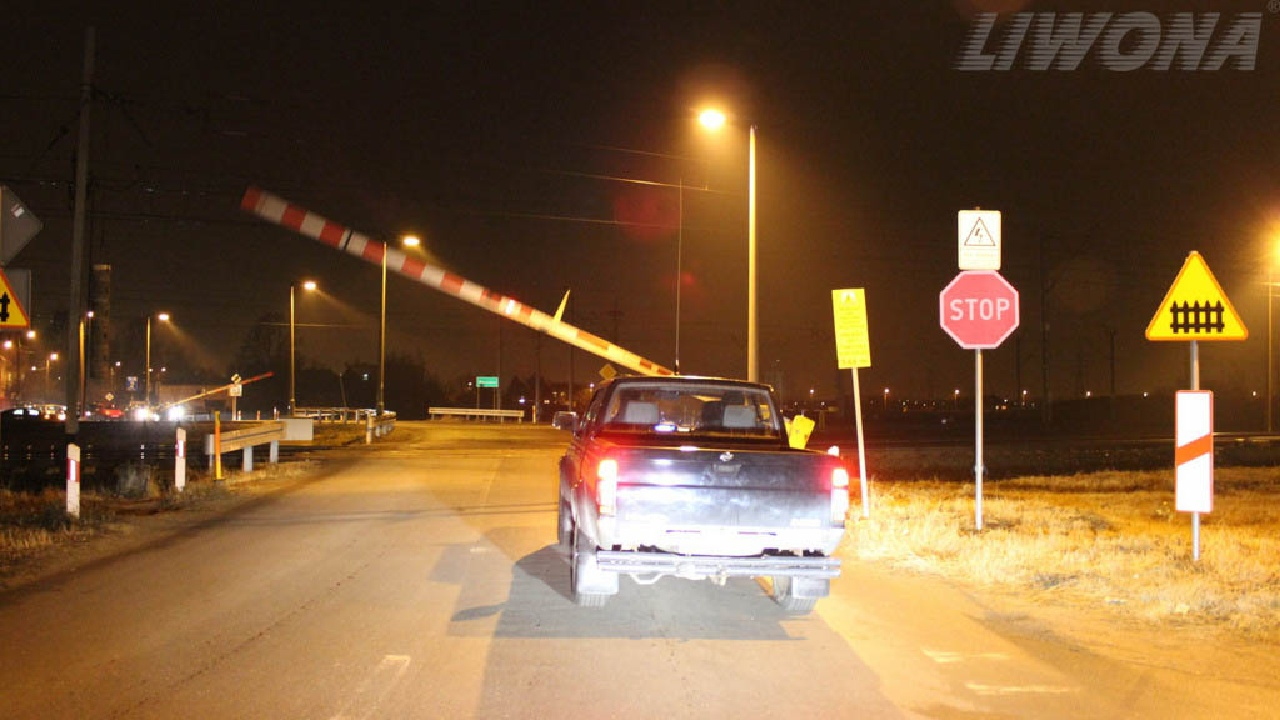A9: (1145, 248, 1250, 345)
B20: (937, 270, 1020, 350)
